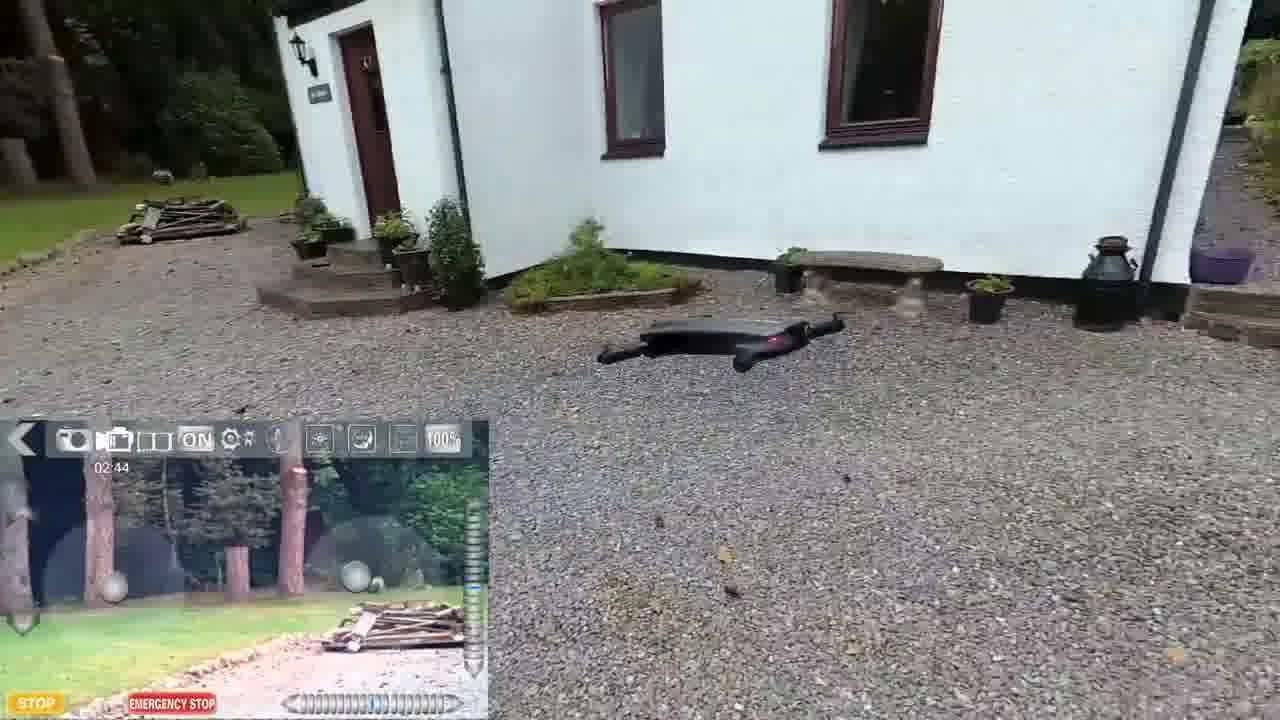drone: (591, 302, 837, 390)
